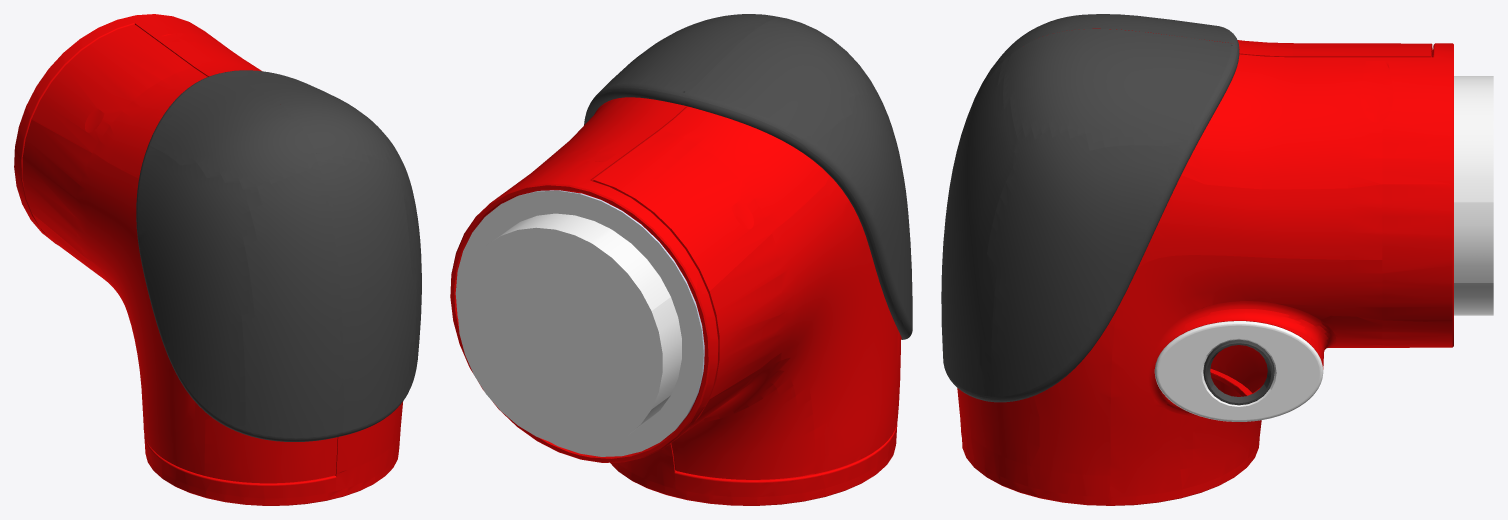
3 views of the same model, side by side, from view 1: azimuth 30°, elevation 25°; view 2: azimuth 150°, elevation 25°; view 3: azimuth 270°, elevation 25° (orthographic). The views are drawn at different scales.
Visible parts, largest first — view 1: _3DGeom_154_geo_0.001, _3DGeom_155_geo_1.001; view 2: _3DGeom_155_geo_1.001, _3DGeom_156_geo_2.001, _3DGeom_154_geo_0.001, _3DGeom_157_geo_3.001; view 3: _3DGeom_155_geo_1.001, _3DGeom_154_geo_0.001, _3DGeom_156_geo_2.001.
Part boxes in pixels (box(x1,y1,x2,y2)): _3DGeom_154_geo_0.001: box(136, 70, 421, 441); _3DGeom_155_geo_1.001: box(14, 14, 403, 505); _3DGeom_155_geo_1.001: box(450, 97, 901, 505); _3DGeom_156_geo_2.001: box(455, 190, 703, 456); _3DGeom_154_geo_0.001: box(584, 14, 912, 339); _3DGeom_157_geo_3.001: box(502, 190, 704, 440); _3DGeom_155_geo_1.001: box(957, 28, 1453, 505); _3DGeom_154_geo_0.001: box(941, 14, 1274, 405); _3DGeom_156_geo_2.001: box(1154, 76, 1493, 421).
Size of the model in its own units: 0.0956 by 0.1278 by 0.154.
